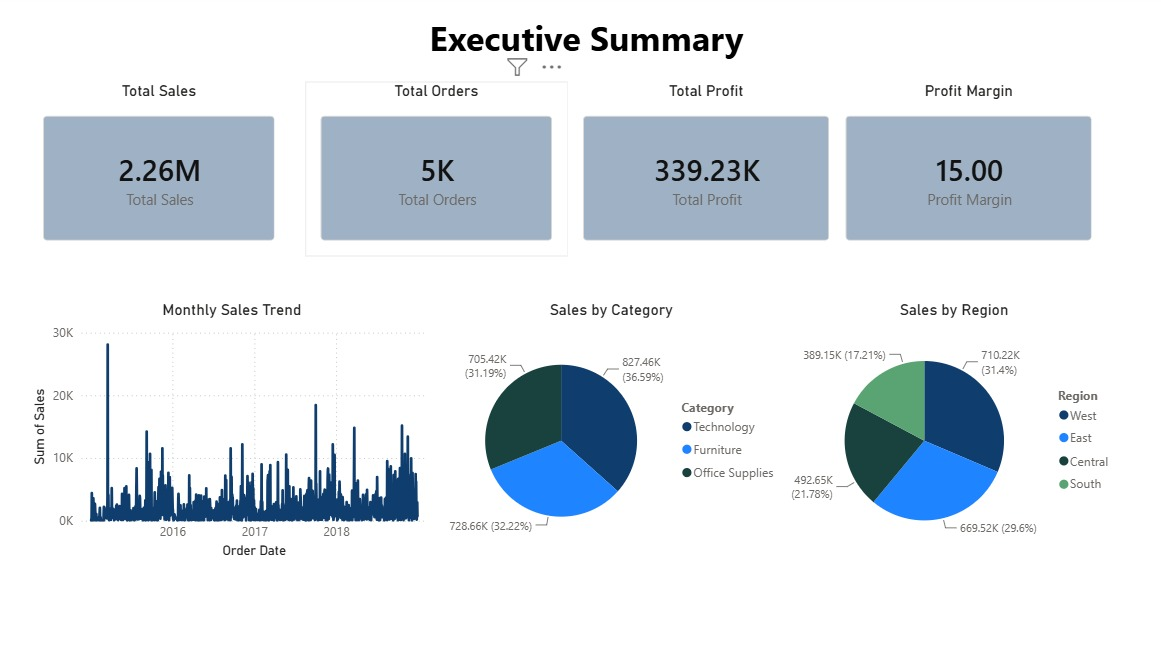

The page's visual inventory and layout, read from the dashboard file:
{"tool":"powerbi","page":{"name":"Executive Summary","canvas":[1280,720],"ordinal":0},"visuals":[{"type":"lineChart","title":"Monthly Sales Trend","fields":{"Category":["orders.Order Date"],"Y":["Sum(orders.Sales)"]},"box":[32,336,448,288],"z":0},{"type":"pieChart","title":"Sales by Category","fields":{"Category":["orders.Category"],"Y":["Sum(orders.Sales)"]},"box":[480,336,384,288],"z":1000},{"type":"pieChart","title":"Sales by Region","fields":{"Category":["orders.Region"],"Y":["Sum(orders.Sales)"]},"box":[864,336,368,288],"z":2000},{"type":"textbox","box":[416,0,448,80],"z":3000},{"type":"cardVisual","title":"Total Sales","fields":{"Data":["Dim_Customers.Total Sales"]},"box":[32,96,288,192],"z":4000},{"type":"cardVisual","title":"Total Orders","fields":{"Data":["Dim_Customers.Total Orders"]},"box":[336,96,288,192],"z":5000},{"type":"cardVisual","title":"Total Profit","fields":{"Data":["Dim_Customers.Total Profit"]},"box":[624,96,304,192],"z":6000},{"type":"cardVisual","title":"Profit Margin","fields":{"Data":["Dim_Customers.Profit Margin"]},"box":[912,96,304,192],"z":7000}]}

Visuals, with their boxes in screenshot pixels (x1, y1, x2, y2), scaled from the page's 1280x720 canvas onto the 1161x647 screenshot:
"Monthly Sales Trend" lineChart: {"left": 29, "top": 302, "right": 435, "bottom": 561}
"Sales by Category" pieChart: {"left": 435, "top": 302, "right": 784, "bottom": 561}
"Sales by Region" pieChart: {"left": 784, "top": 302, "right": 1117, "bottom": 561}
textbox: {"left": 377, "top": 0, "right": 784, "bottom": 72}
"Total Sales" cardVisual: {"left": 29, "top": 86, "right": 290, "bottom": 259}
"Total Orders" cardVisual: {"left": 305, "top": 86, "right": 566, "bottom": 259}
"Total Profit" cardVisual: {"left": 566, "top": 86, "right": 842, "bottom": 259}
"Profit Margin" cardVisual: {"left": 827, "top": 86, "right": 1103, "bottom": 259}
